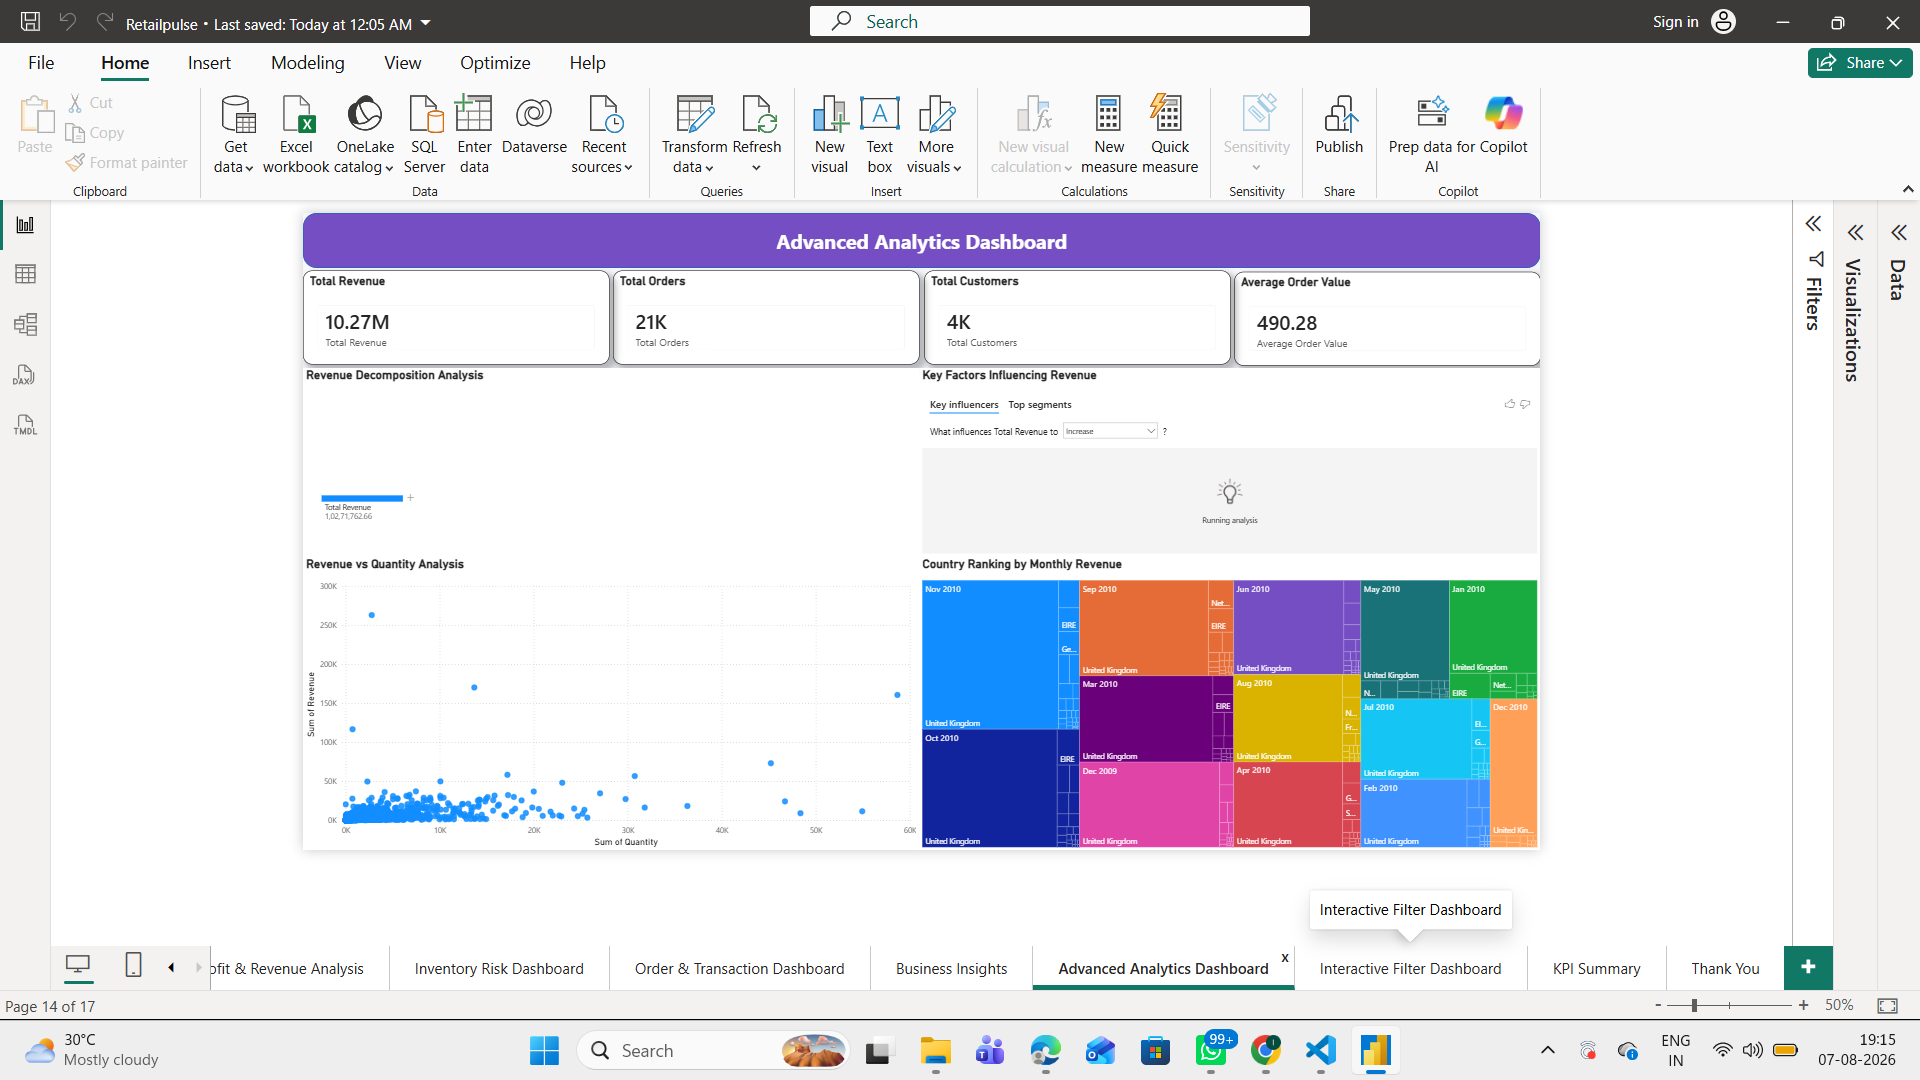

Layout of this report page (visuals, bound fields, positions):
{"tool":"powerbi","page":{"name":"Advanced Analytics Dashboard","canvas":[1980,1020],"ordinal":13},"visuals":[{"type":"shape","title":"Advanced Analytics Dashboard","box":[0,0,1980,88],"z":0},{"type":"cardVisual","title":"Average Order Value","fields":{"Data":["cleaned_online_retail.Average Order Value"]},"box":[1490,94,490,150],"z":1000},{"type":"cardVisual","title":"Total Customers","fields":{"Data":["cleaned_online_retail.Total Customers"]},"box":[994,92,490,150],"z":2000},{"type":"cardVisual","title":"Total Orders","fields":{"Data":["cleaned_online_retail.Total Orders"]},"box":[496,92,490,150],"z":3000},{"type":"cardVisual","title":"Total Revenue","fields":{"Data":["cleaned_online_retail.Total Revenue"]},"box":[0,92,490,150],"z":4000},{"type":"decompositionTreeVisual","title":"Revenue Decomposition Analysis","fields":{"Analyze":["cleaned_online_retail.Total Revenue"],"ExplainBy":["cleaned_online_retail.Country","cleaned_online_retail.Description","cleaned_online_retail.Customer ID","cleaned_online_retail.Month.Variation.Date Hierarchy.Year","cleaned_online_retail.Month.Variation.Date Hierarchy.Quarter","cleaned_online_retail.Month.Variation.Date Hierarchy.Month","cleaned_online_retail.Month.Variation.Date Hierarchy.Day"]},"box":[0,248,986,302],"z":5000},{"type":"keyDriversVisual","title":"Key Factors Influencing Revenue","fields":{"Target":["cleaned_online_retail.Total Revenue"],"ExplainBy":["cleaned_online_retail.Country","cleaned_online_retail.Description","cleaned_online_retail.Month.Variation.Date Hierarchy.Year","cleaned_online_retail.Month.Variation.Date Hierarchy.Quarter","cleaned_online_retail.Month.Variation.Date Hierarchy.Month","cleaned_online_retail.Month.Variation.Date Hierarchy.Day","Sum(cleaned_online_retail.Quantity)"]},"box":[986,248,994,302],"z":6000},{"type":"scatterChart","title":"Revenue vs Quantity Analysis","fields":{"X":["Sum(cleaned_online_retail.Quantity)"],"Y":["Sum(cleaned_online_retail.Revenue)"],"Category":["cleaned_online_retail.Description"]},"box":[0,550,986,470],"z":7000},{"type":"treemap","title":"Country Ranking by Monthly Revenue","fields":{"Group":["cleaned_online_retail.Month Year"],"Details":["cleaned_online_retail.Country"],"Values":["cleaned_online_retail.Total Revenue"]},"box":[986,550,994,470],"z":8000}]}

Visuals, with their boxes on the page's 1980x1020 design canvas (x1, y1, x2, y2). These are canvas units, not pixel positions in the 1920x1080 screenshot, which may show the page scaled, cropped or inside an application window:
"Advanced Analytics Dashboard" shape: locate(0, 0, 1980, 88)
"Average Order Value" cardVisual: locate(1490, 94, 1980, 244)
"Total Customers" cardVisual: locate(994, 92, 1484, 242)
"Total Orders" cardVisual: locate(496, 92, 986, 242)
"Total Revenue" cardVisual: locate(0, 92, 490, 242)
"Revenue Decomposition Analysis" decompositionTreeVisual: locate(0, 248, 986, 550)
"Key Factors Influencing Revenue" keyDriversVisual: locate(986, 248, 1980, 550)
"Revenue vs Quantity Analysis" scatterChart: locate(0, 550, 986, 1020)
"Country Ranking by Monthly Revenue" treemap: locate(986, 550, 1980, 1020)
